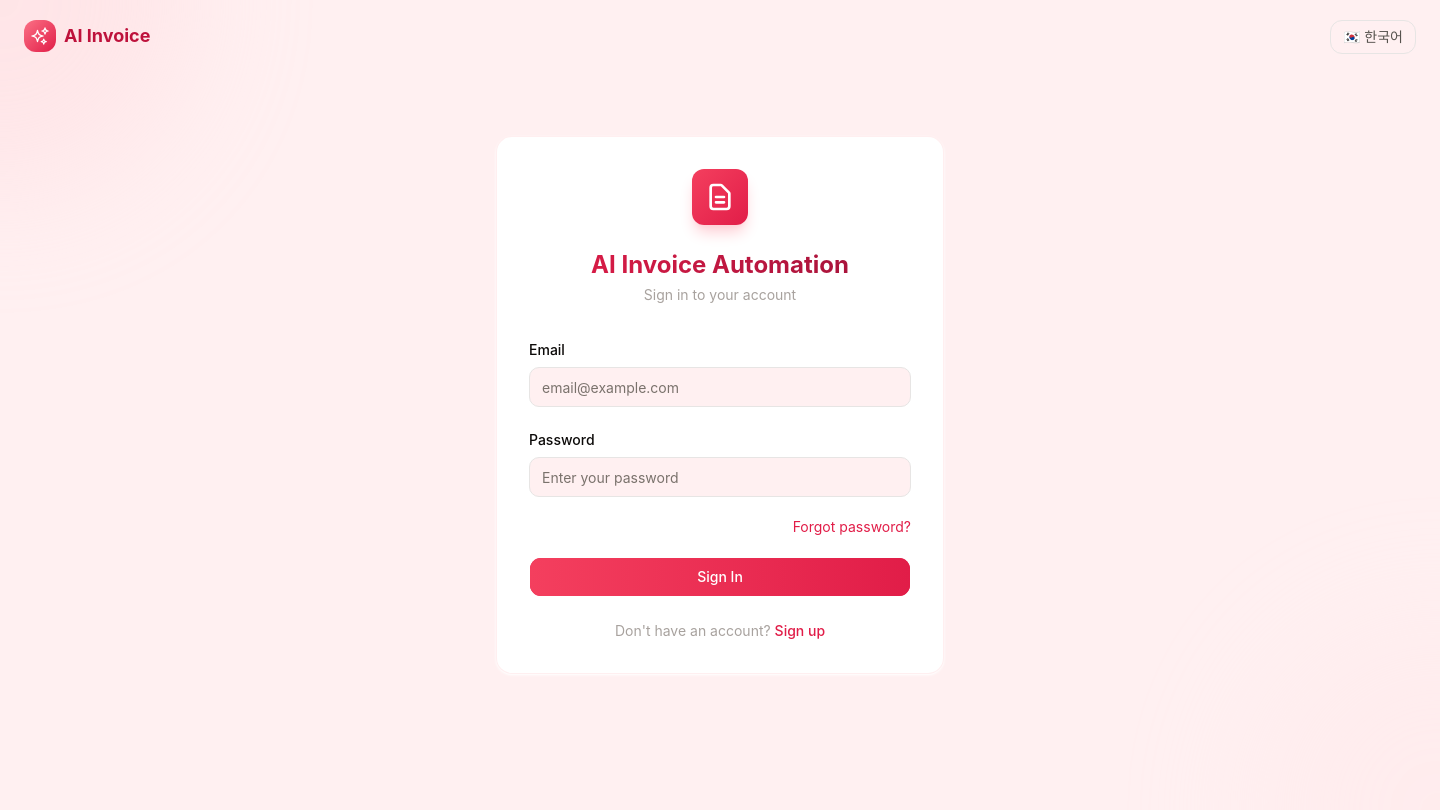
it: LoginPage › shows error message on login failure
Type "test@example.com" into the field labelled "Email" at (720, 387), box [529,367,911,407]
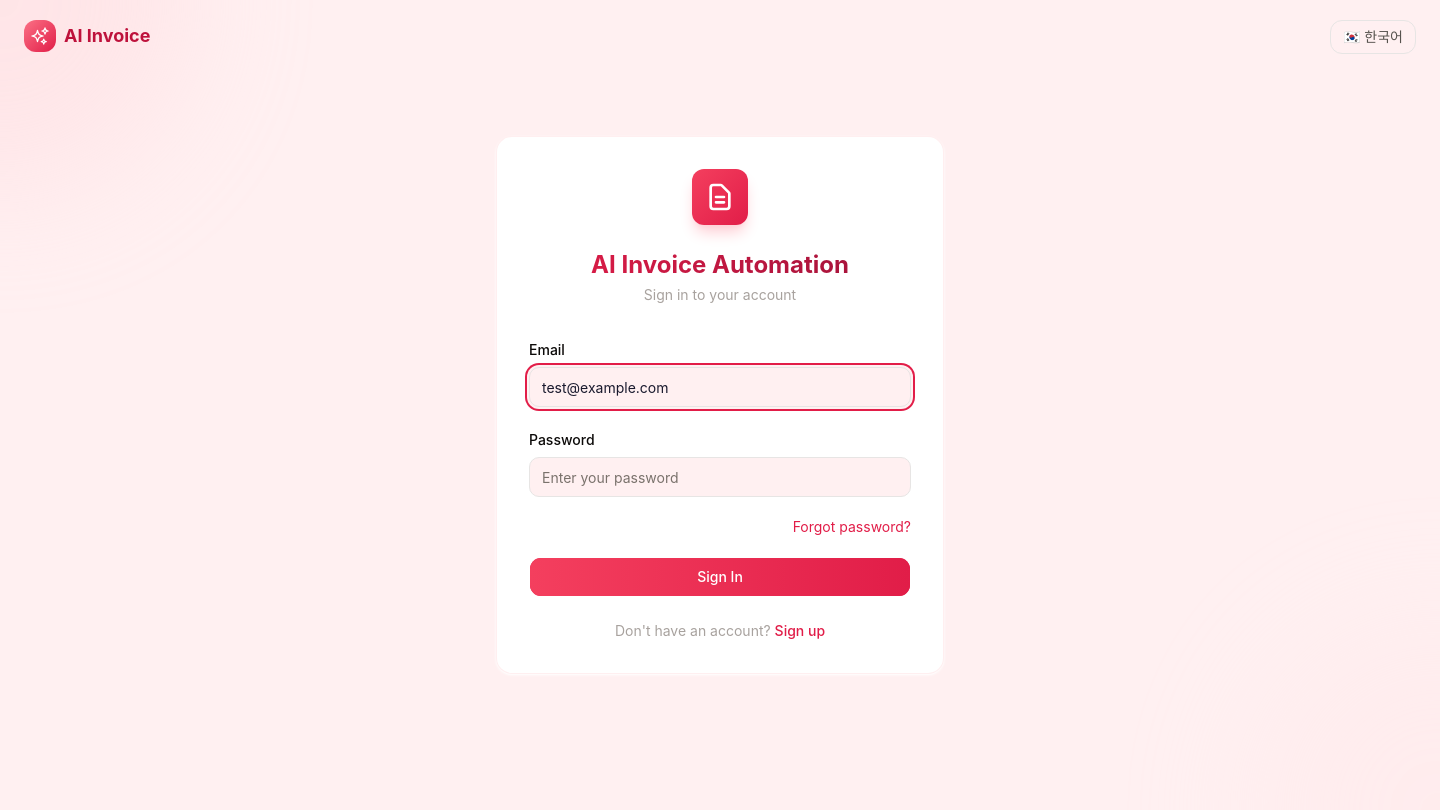
Type "wrong" into the password field labelled "Password" at (720, 477), box [529,457,911,497]
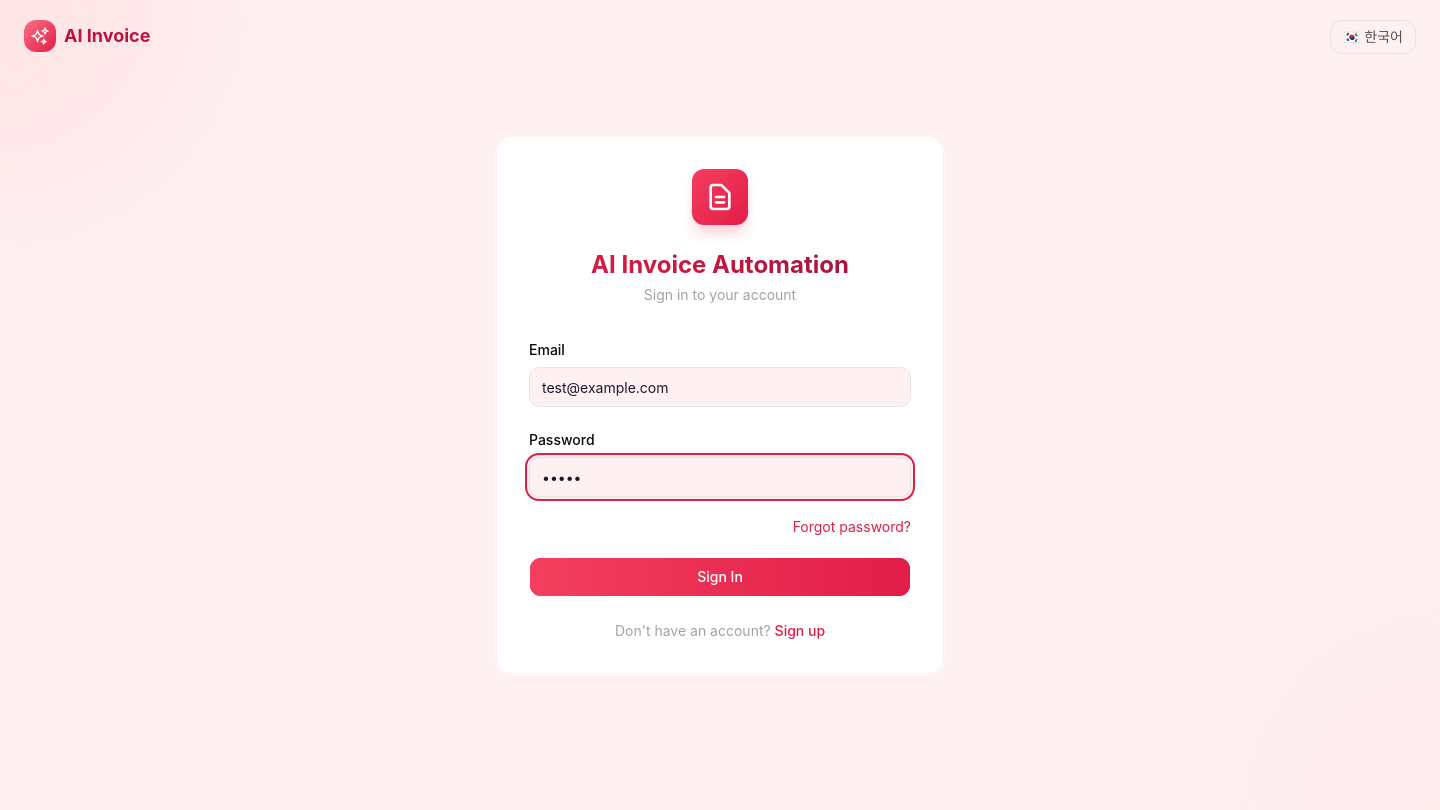
Click the button "Sign In" at (720, 577), box [529,557,911,597]
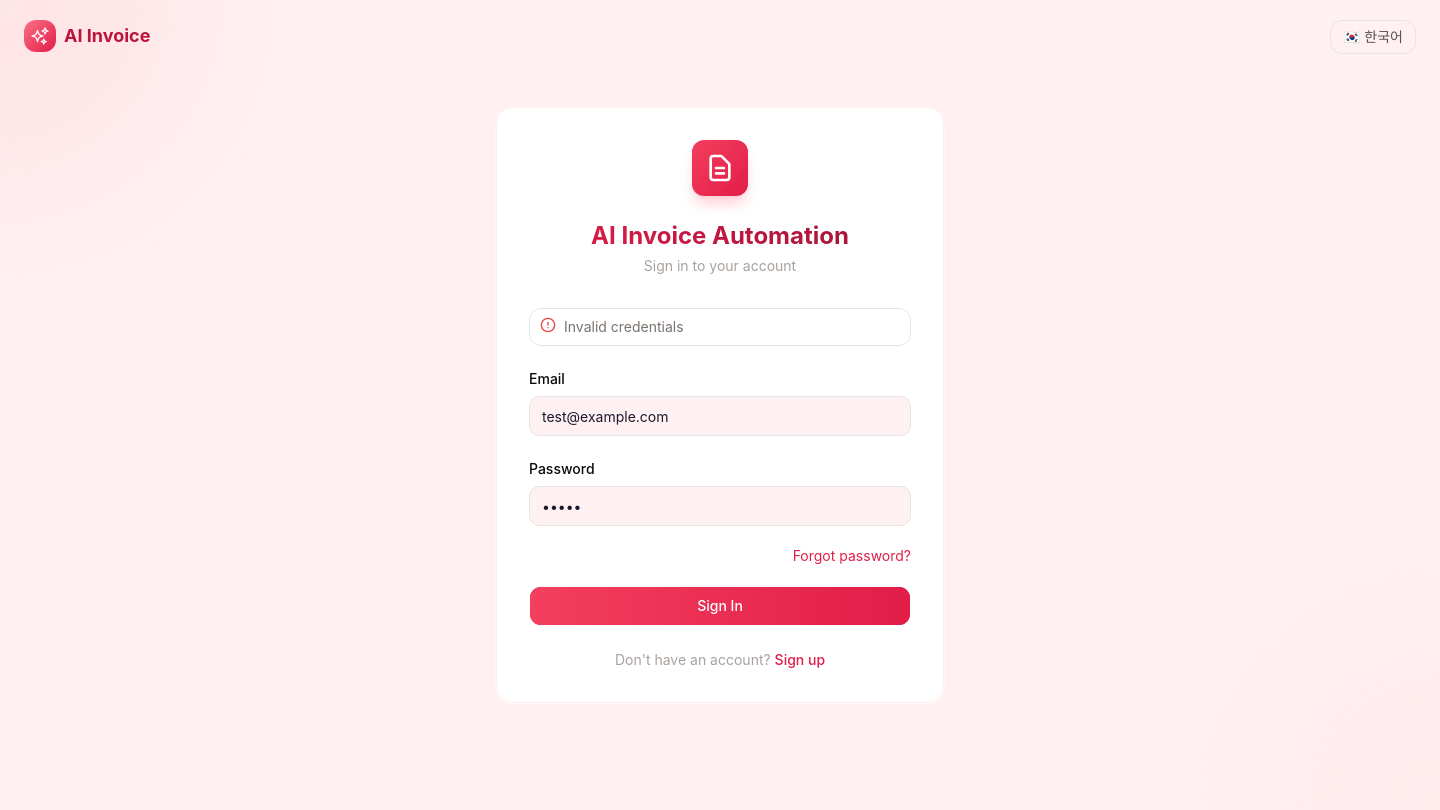
Result: the text "Invalid credentials" is shown at [564,318,684,335]
